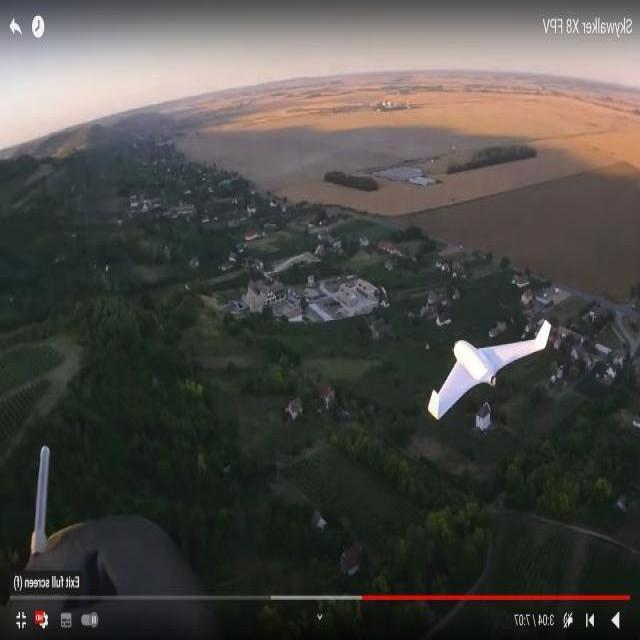UAV: (362, 292, 571, 416)
